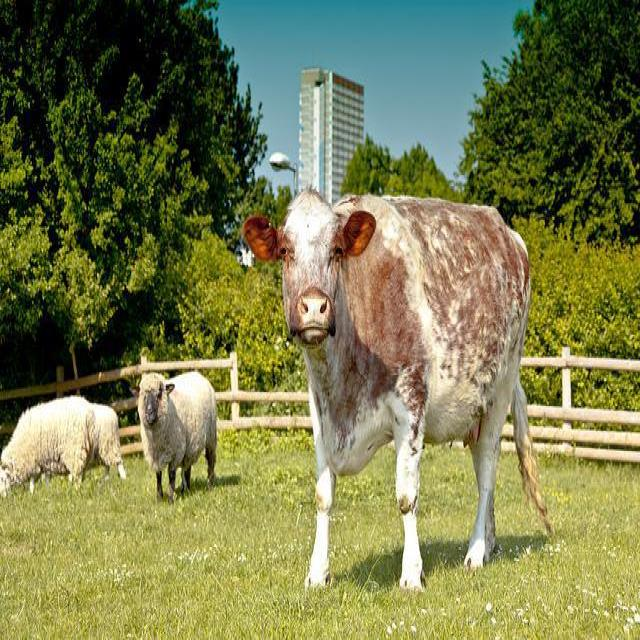Sheep: (136, 369, 219, 500), (1, 397, 96, 499), (91, 400, 128, 482)
